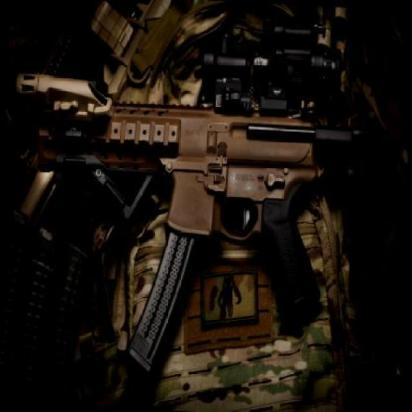Gun: (0, 41, 402, 403)
